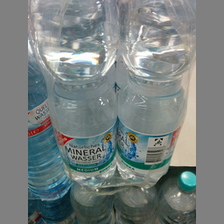water: (27, 1, 116, 187), (116, 1, 195, 189)
